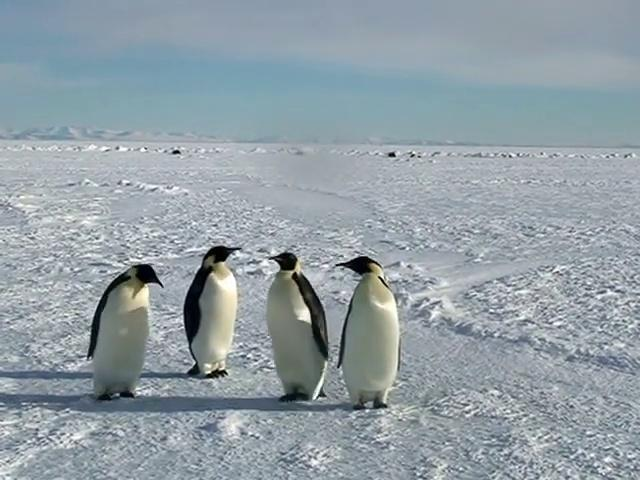animal: (339, 257, 401, 409)
